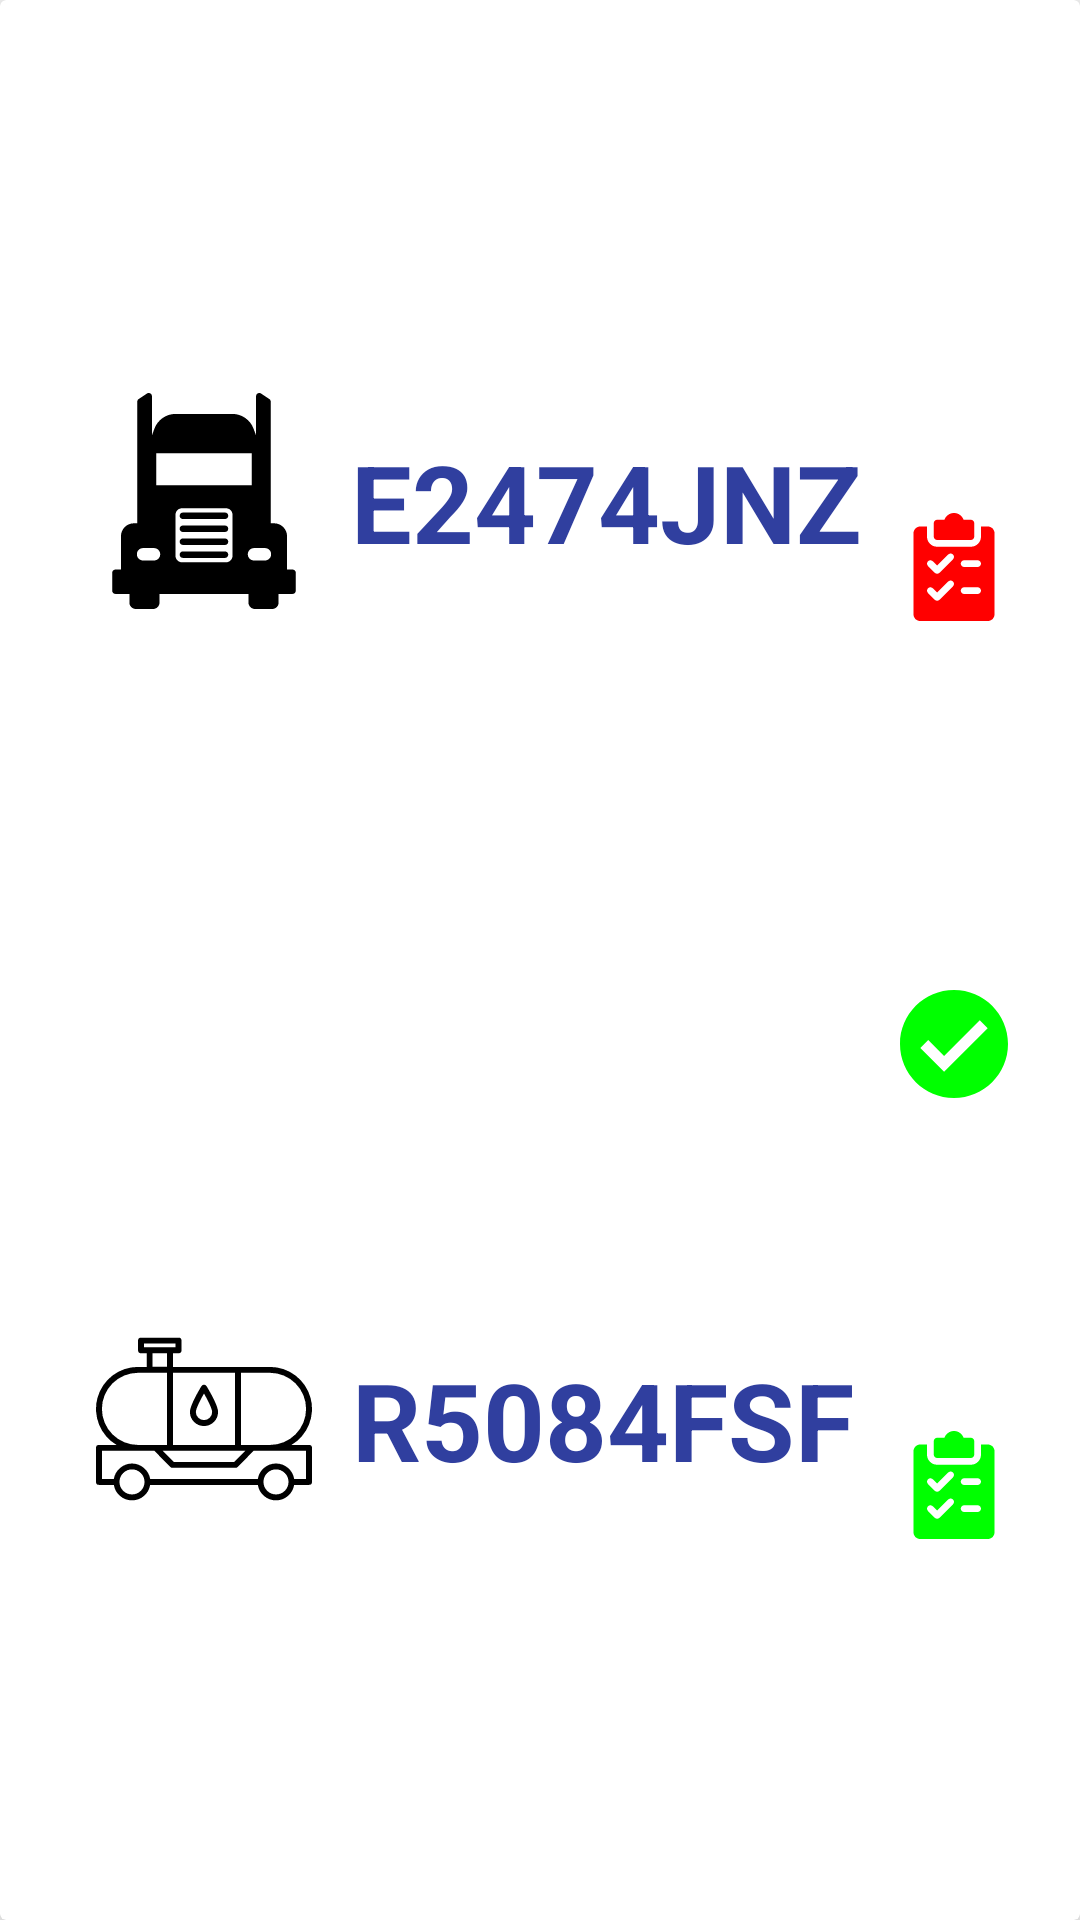

Icons on this 1080 × 1920 Android screen, each with its box as (x1, y1, x2, y2):
Cabeza tractora: (112, 393, 296, 609)
checked: (900, 990, 1008, 1098)
inspeccionado false: (913, 513, 995, 621)
inspeccionado true: (913, 1431, 995, 1539)
oil tank: (96, 1337, 312, 1501)
